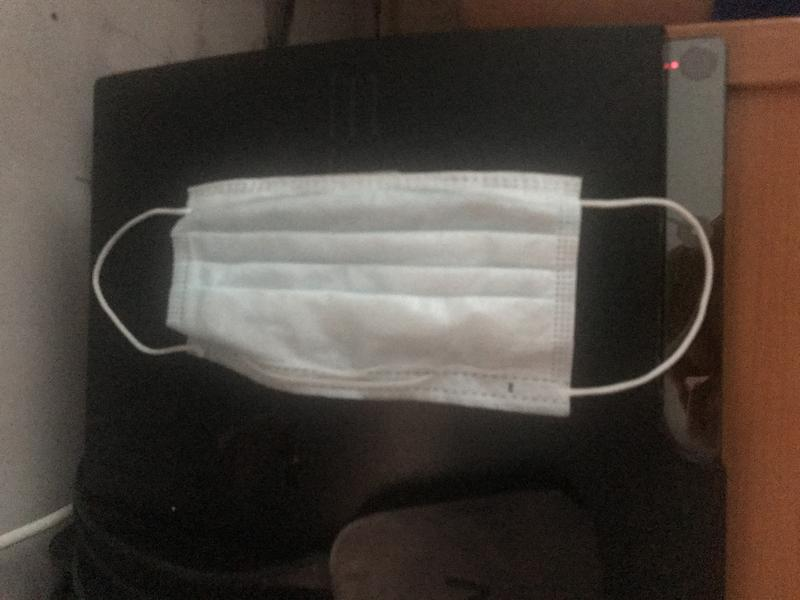medical_mask: (92, 171, 714, 417)
